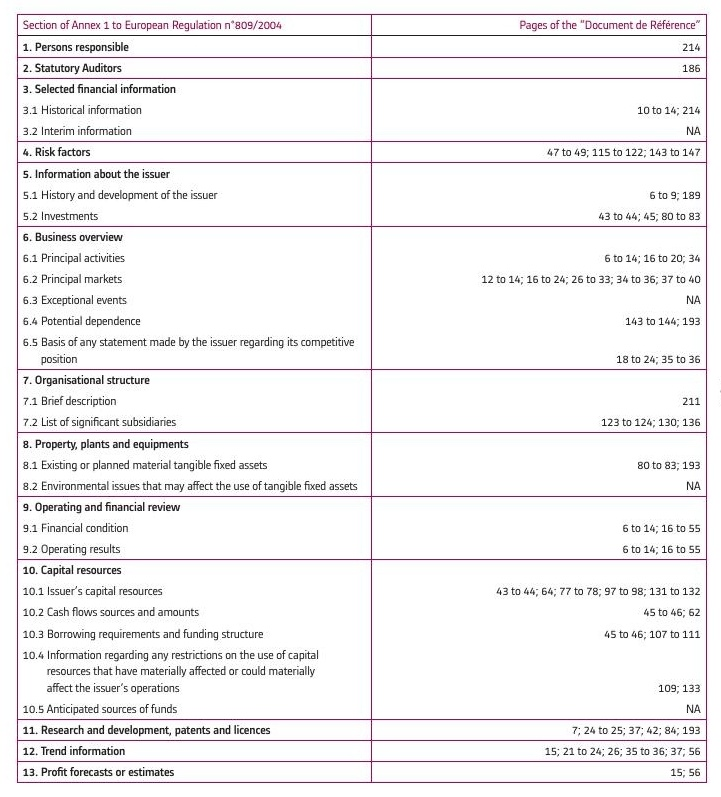table: (0, 0, 721, 797)
